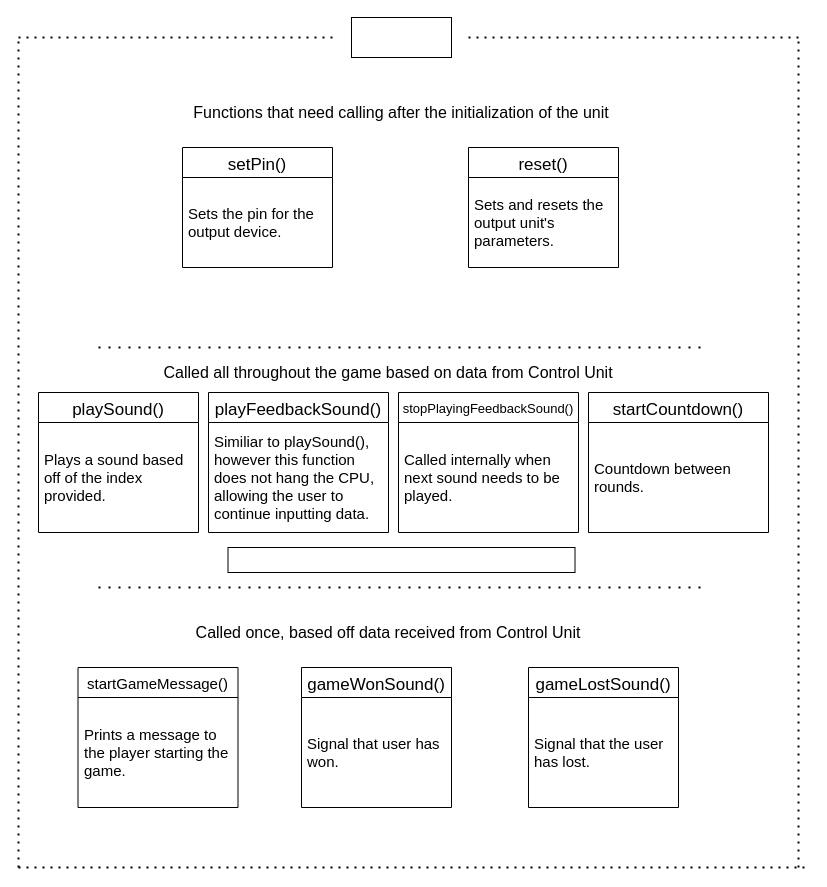
Image size: 827x887. Some labels were removed from this diagram. Here are the shapes that lost their labels. From the top down, the centre of each, then its label:
At point (401, 37): "Output Unit".
At point (401, 559): "printGameStatus()".
